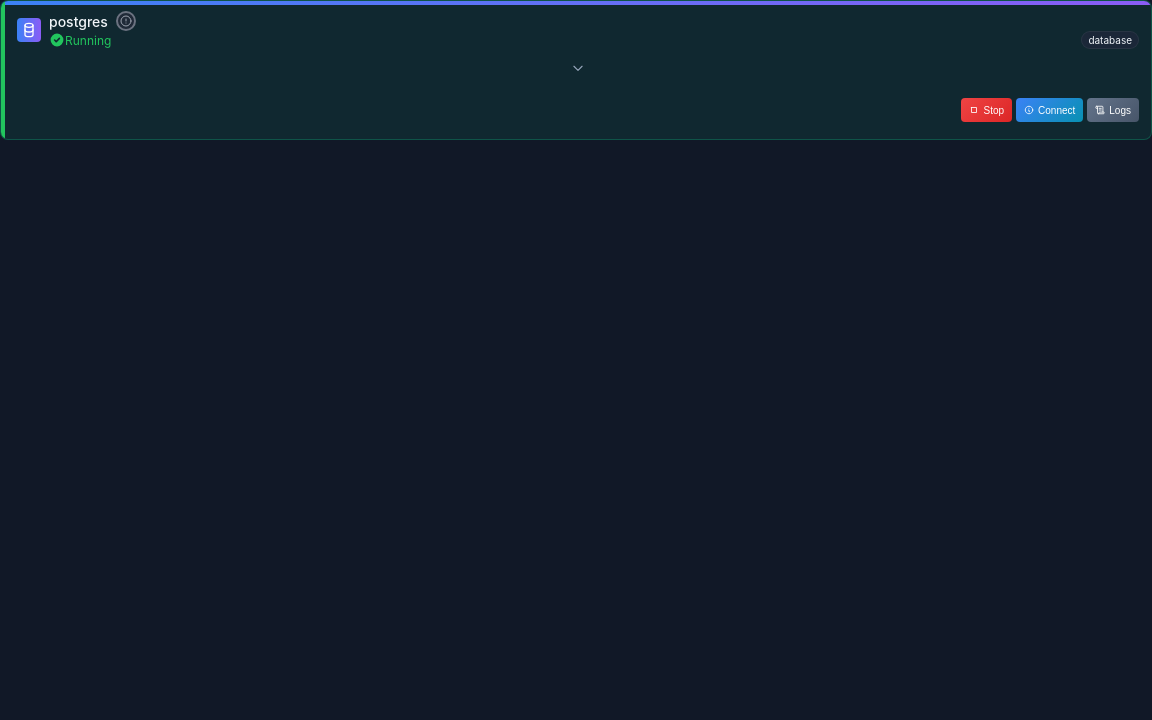
Test: ServiceItem Component - User Interactions › Connection Information Modal › should close connection modal when close button is clicked
Step 1. Click the button "Connect" → (1050,110), box [1016,98,1083,122]
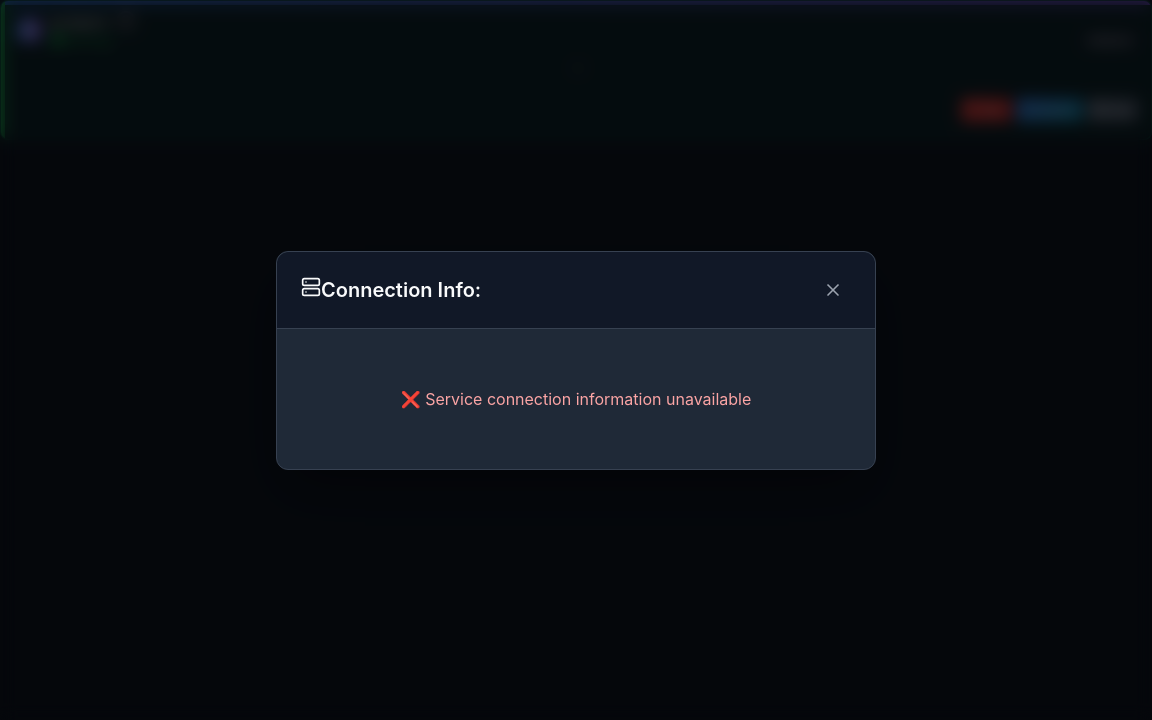
Now the button named "close" is shown, box [815,272,851,308]
